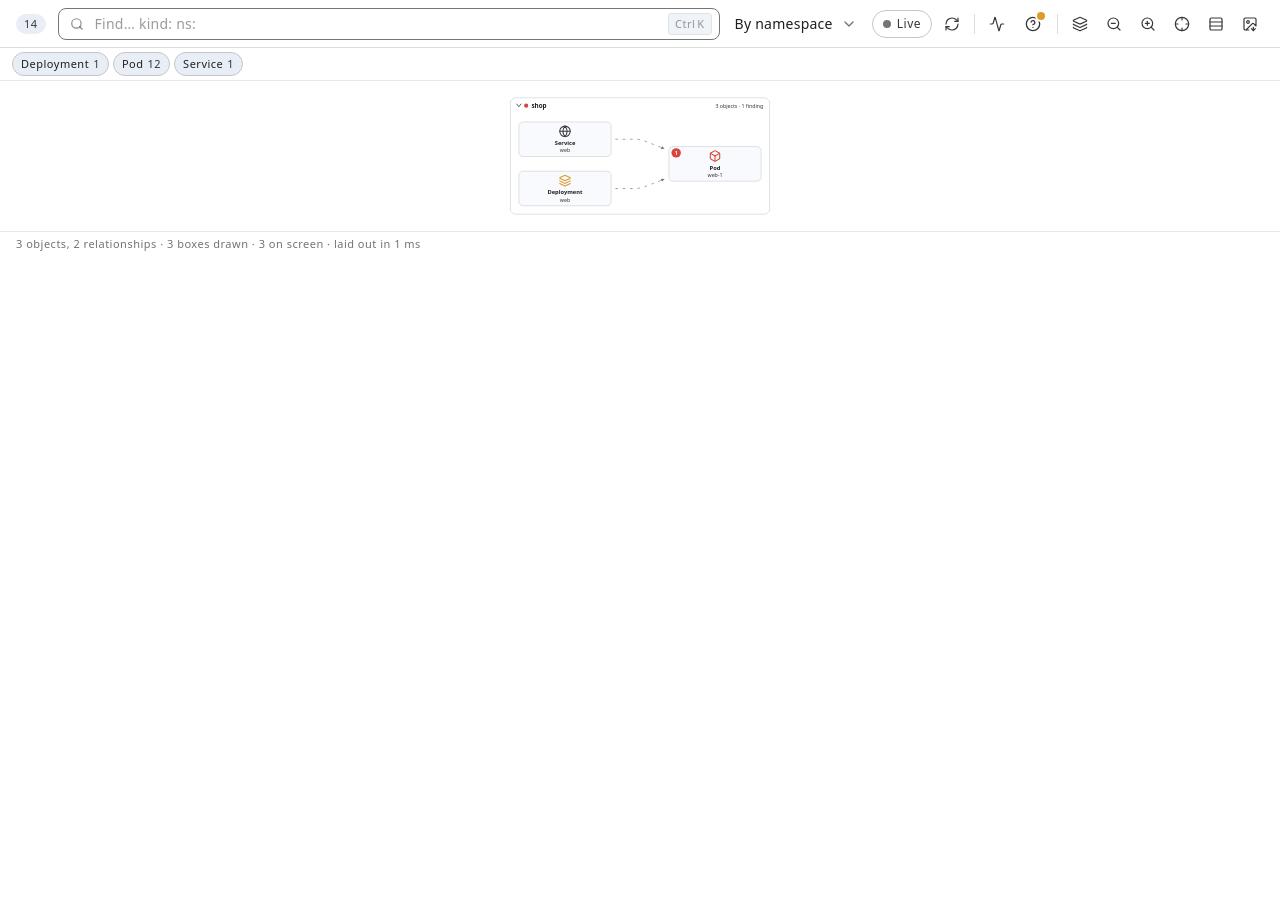
Scenario: TopologyView popovers and Help, reviewed › counts hidden applications from the drawing, not from remembered ids
Click the button "By namespace" at (796, 24), box [726, 8, 866, 40]
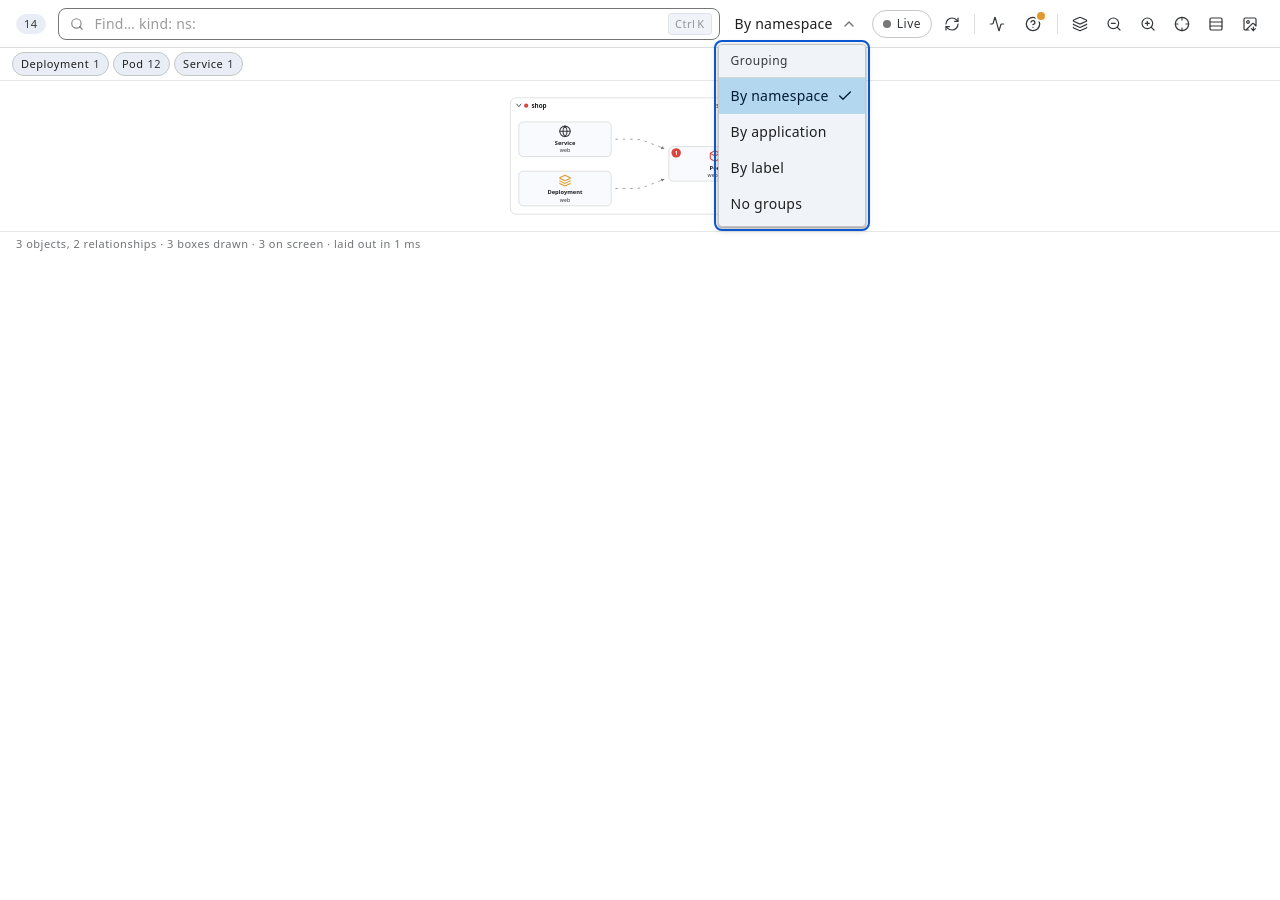
Click the option "By application" at (792, 132), box [719, 114, 865, 150]
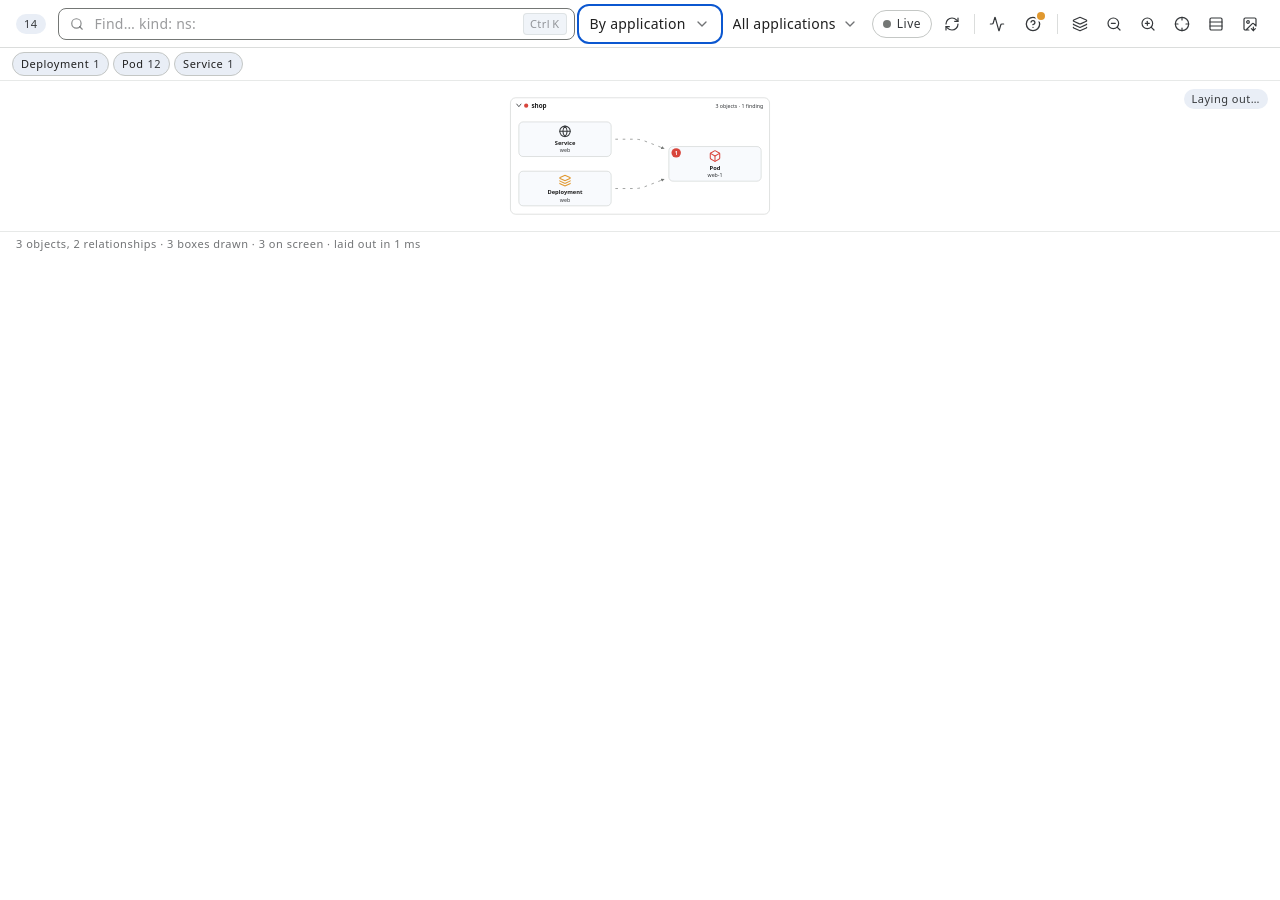
Click the button "All applications" at (795, 24), box [725, 8, 866, 40]
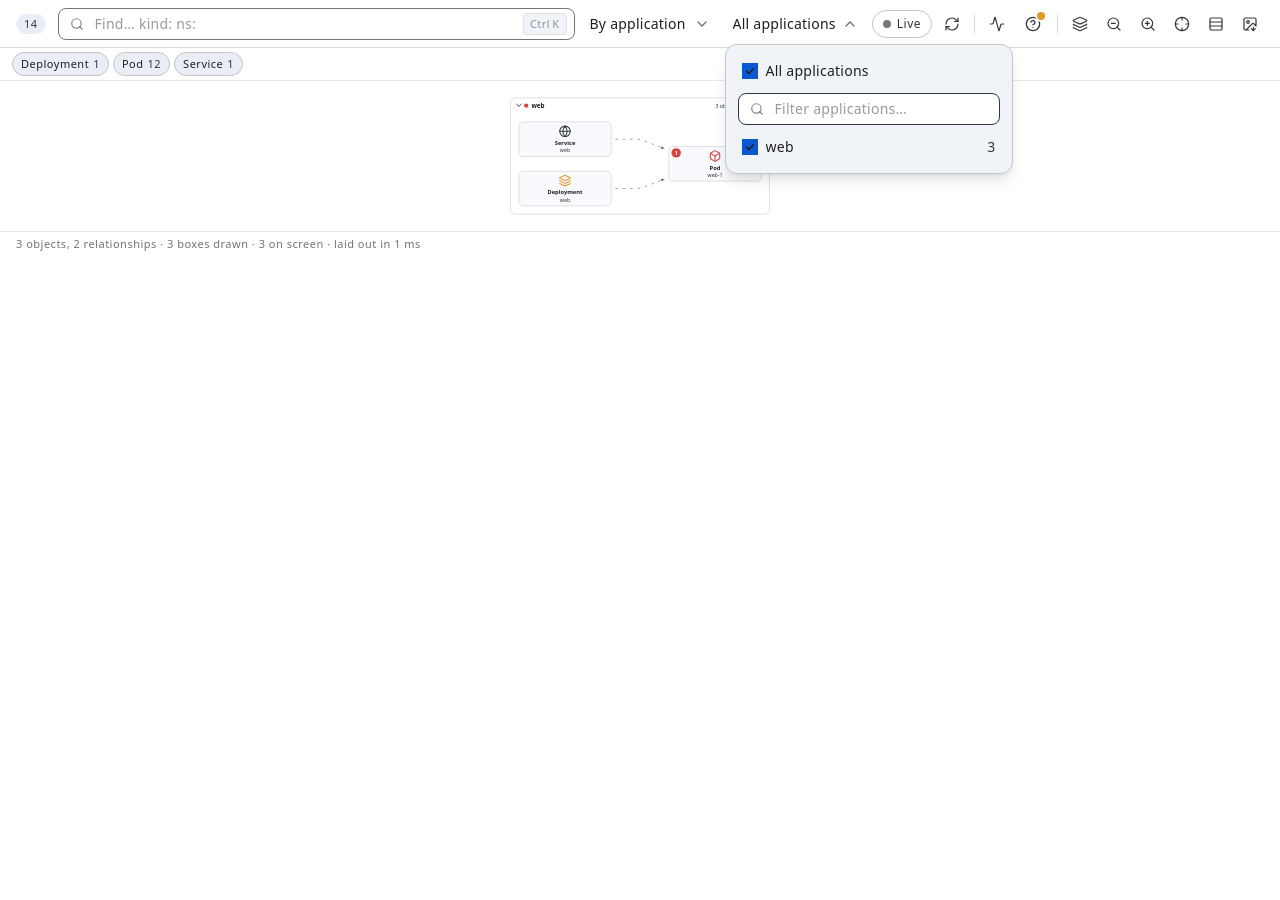
Expected: the checkbox labelled "All applications" is checked, [742, 62, 758, 78]
